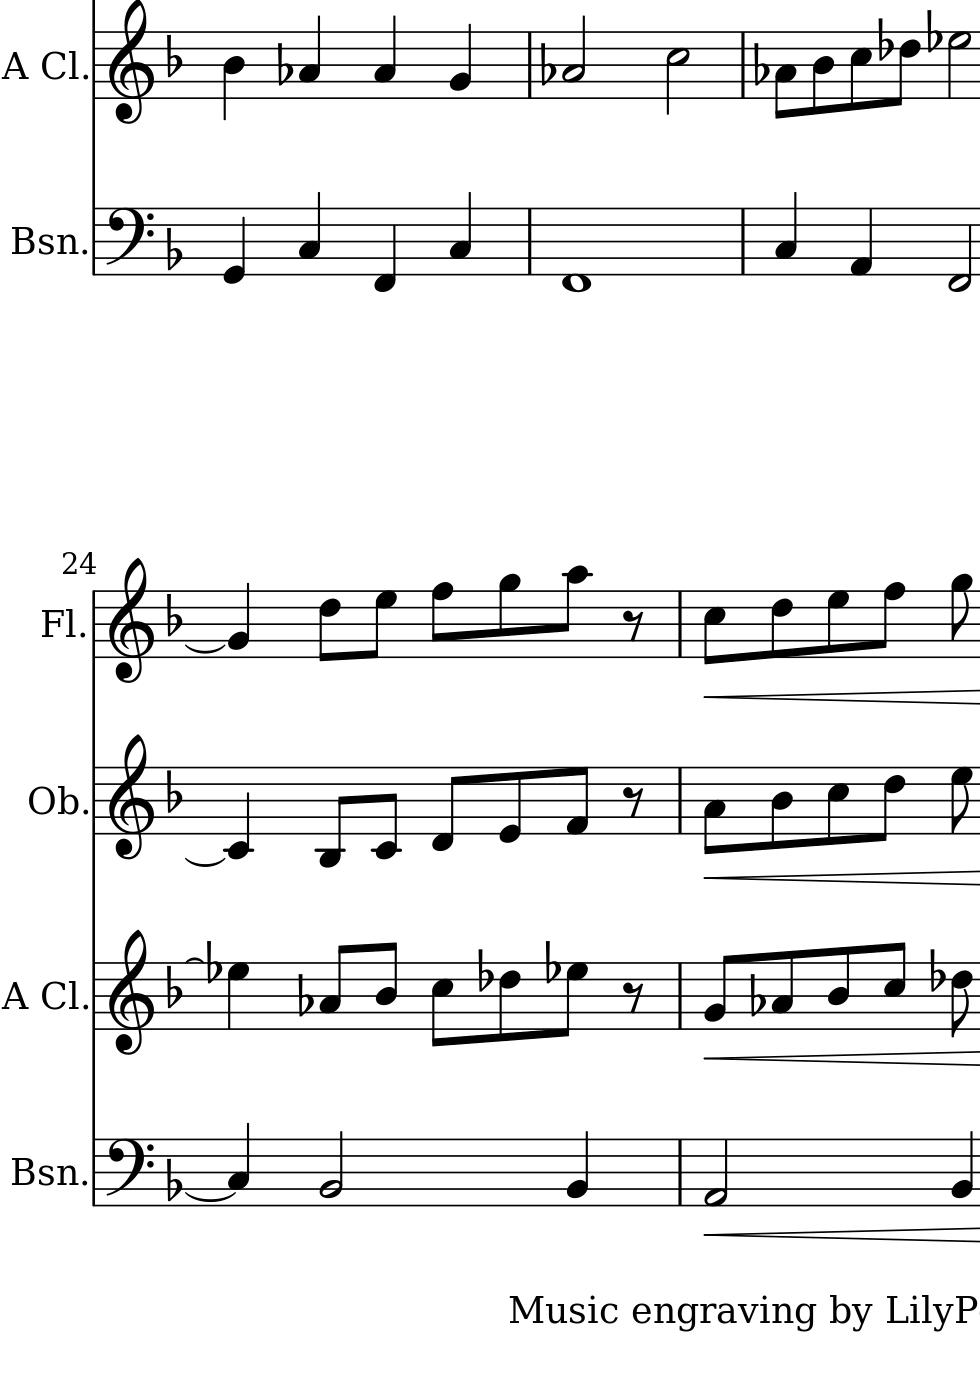1_-1: (559, 205, 592, 296)
2: (60, 550, 77, 577)
2_-1: (946, 206, 972, 293)
2_1: (702, 1136, 730, 1208)
2_2: (317, 1129, 345, 1207)
2_3: (559, 15, 587, 98)
2_5: (663, 30, 690, 116)
2_7: (945, 29, 972, 100)
4: (78, 550, 97, 578)
4_-1: (371, 205, 398, 293)
4_-2: (224, 764, 253, 861)
4_0: (221, 205, 247, 286)
4_1: (847, 206, 874, 278)
4_2: (448, 21, 473, 101), (565, 1129, 591, 1209), (227, 581, 251, 660), (950, 1129, 975, 1208)
4_3: (297, 13, 323, 100), (296, 190, 322, 276), (447, 191, 472, 276), (226, 1122, 251, 1207), (372, 13, 397, 100), (773, 191, 798, 277)
4_4: (220, 28, 245, 122)
4_7: (225, 961, 251, 1031)
8_-1: (428, 764, 461, 852)
8_-2: (371, 765, 402, 861)
8_-3: (314, 765, 349, 869)
8_0: (496, 765, 523, 846)
8_1: (564, 764, 590, 837)
8_10: (554, 565, 588, 661)
8_2: (702, 953, 734, 1031)
8_3: (318, 944, 351, 1032), (772, 29, 798, 122), (701, 765, 727, 856), (769, 949, 795, 1032)
8_4: (768, 765, 794, 852), (808, 29, 834, 118), (373, 940, 398, 1032), (826, 945, 851, 1032)
8_5: (881, 938, 906, 1032), (428, 961, 454, 1049), (824, 764, 848, 847), (701, 589, 727, 667), (847, 30, 871, 113)
8_6: (872, 765, 905, 845), (890, 31, 921, 109), (496, 960, 521, 1043), (317, 587, 342, 664), (949, 961, 973, 1039), (769, 589, 793, 661)
8_7: (554, 961, 587, 1038), (364, 589, 397, 660), (825, 589, 850, 660), (948, 765, 973, 836)
8_8: (871, 579, 904, 659), (428, 581, 454, 661)
8_9: (948, 573, 974, 661), (497, 573, 521, 660)
Bsn: (8, 222, 77, 261), (8, 1153, 76, 1190)
Cl: (39, 45, 80, 87), (39, 977, 78, 1015)
Fclef: (103, 206, 156, 279), (103, 1137, 154, 1208)
Fl: (38, 606, 77, 643)
Flat: (162, 32, 183, 78), (163, 768, 183, 815), (163, 963, 183, 1010), (164, 591, 183, 639), (750, 41, 769, 88), (164, 1156, 183, 1203), (164, 226, 183, 271), (747, 972, 766, 1018), (274, 40, 292, 88), (538, 41, 556, 88), (542, 938, 560, 985), (295, 972, 313, 1017), (927, 947, 944, 994), (475, 947, 492, 993), (876, 16, 892, 62), (925, 8, 941, 53), (204, 940, 220, 983)
Gclef: (106, 732, 155, 861), (106, 1, 155, 129), (106, 929, 155, 1057), (107, 555, 155, 685)
Ob: (27, 780, 78, 821)
Rests8: (622, 607, 645, 643), (622, 784, 645, 819), (622, 980, 645, 1015)
Single_barline: (670, 591, 689, 657), (670, 767, 689, 834), (521, 208, 538, 275), (734, 208, 751, 275), (671, 1139, 688, 1206), (671, 963, 688, 1028), (87, 31, 103, 99), (86, 208, 102, 276), (87, 767, 103, 835), (521, 32, 537, 99), (734, 32, 750, 99), (87, 590, 102, 659), (87, 963, 102, 1030), (87, 1140, 102, 1207)
Slur: (182, 1190, 239, 1203), (182, 853, 226, 867), (183, 644, 224, 655), (183, 955, 206, 963)
